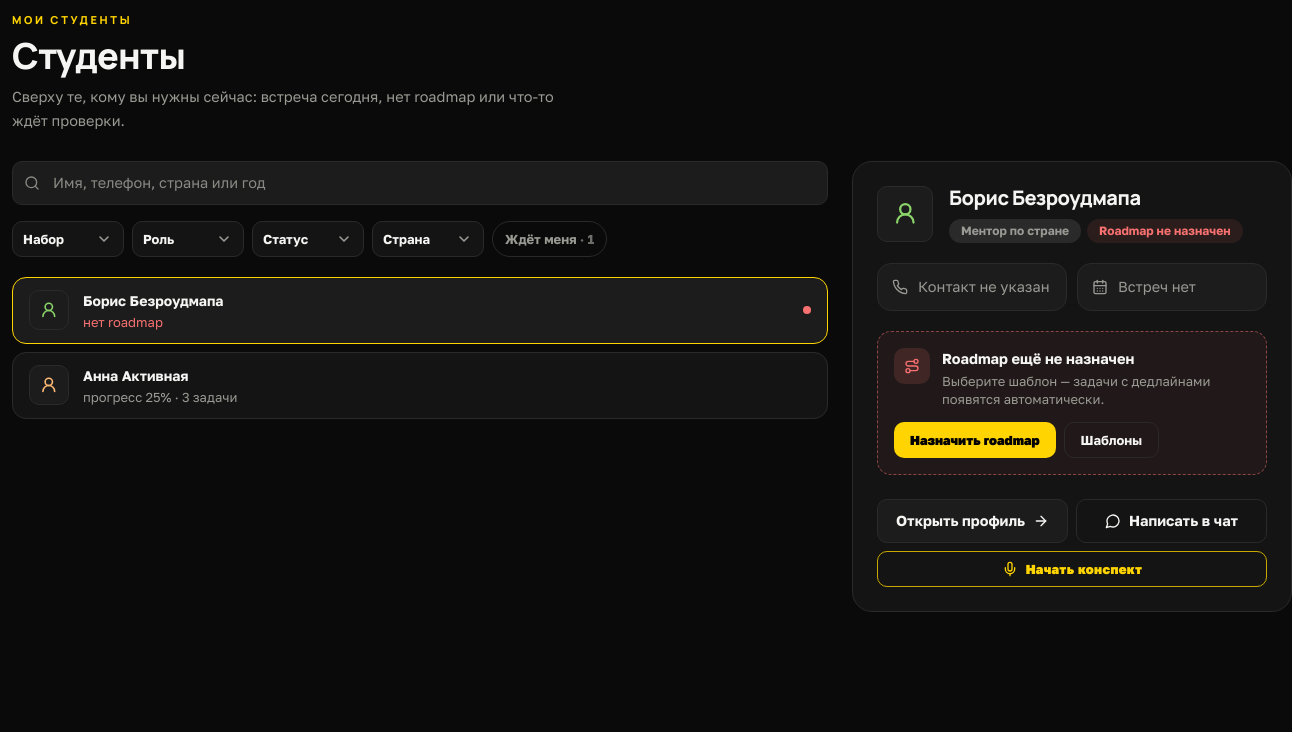
Scenario: фильтры строкой сверху: «Ждёт меня», моя роль, статус
Select "Ментор по стране · 1" in the dropdown named "Моя роль": (188, 238) [132,220,244,256]
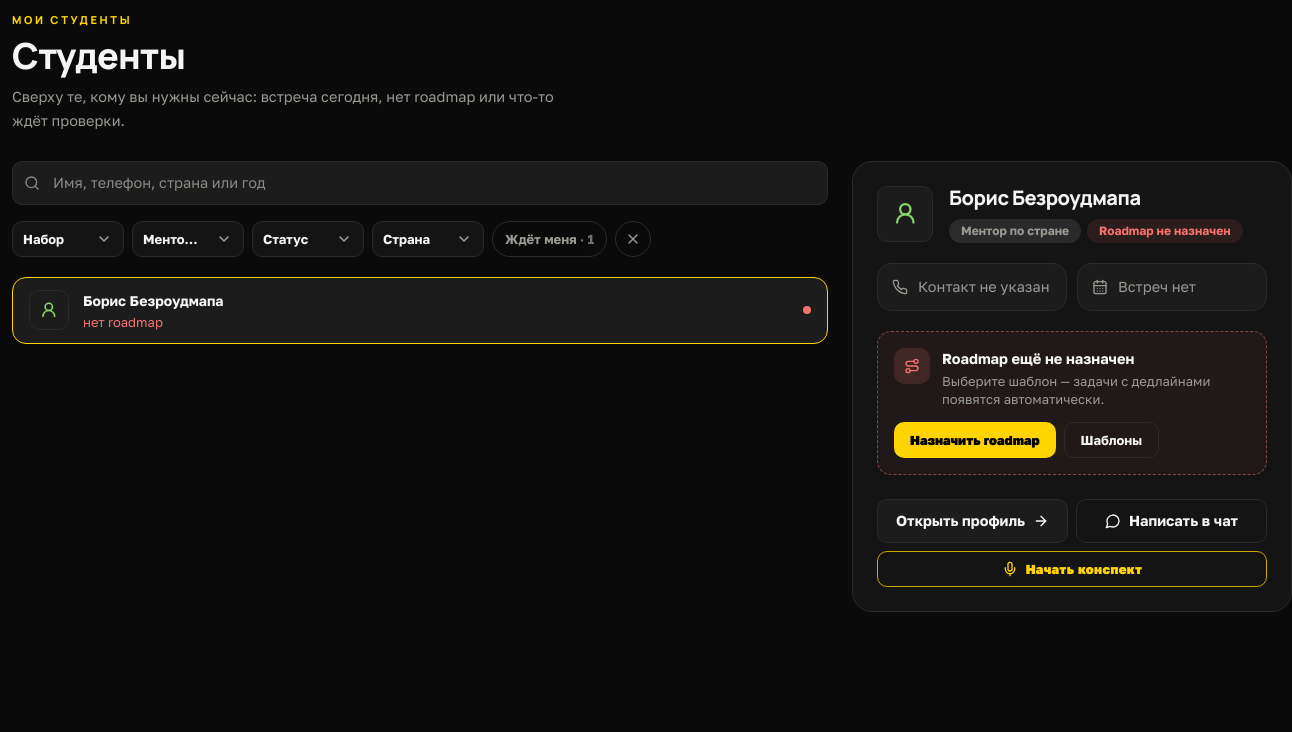
expect no buttons "Анна Активная" are shown: met
Click the button named "Сбросить": (633, 238) [615,220,651,256]
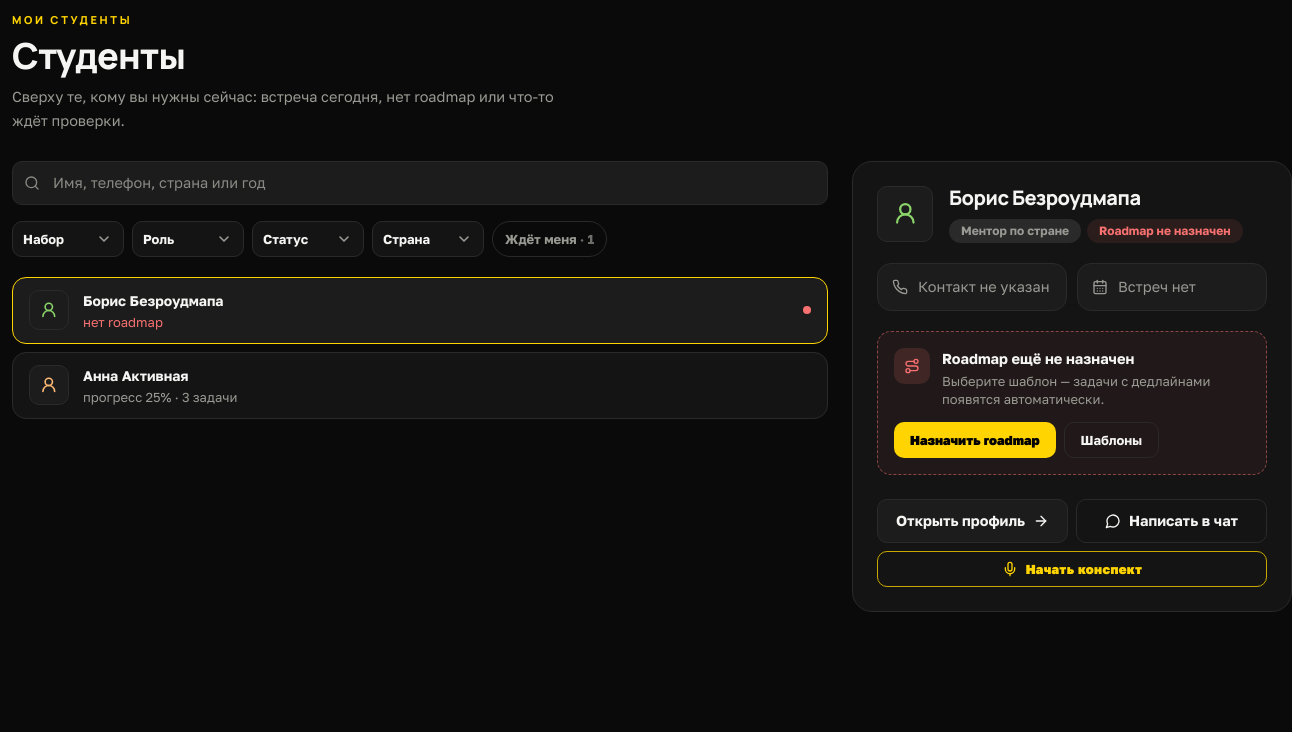
Select "Активная работа · 1" in the dropdown named "Статус": (308, 238) [252,220,364,256]
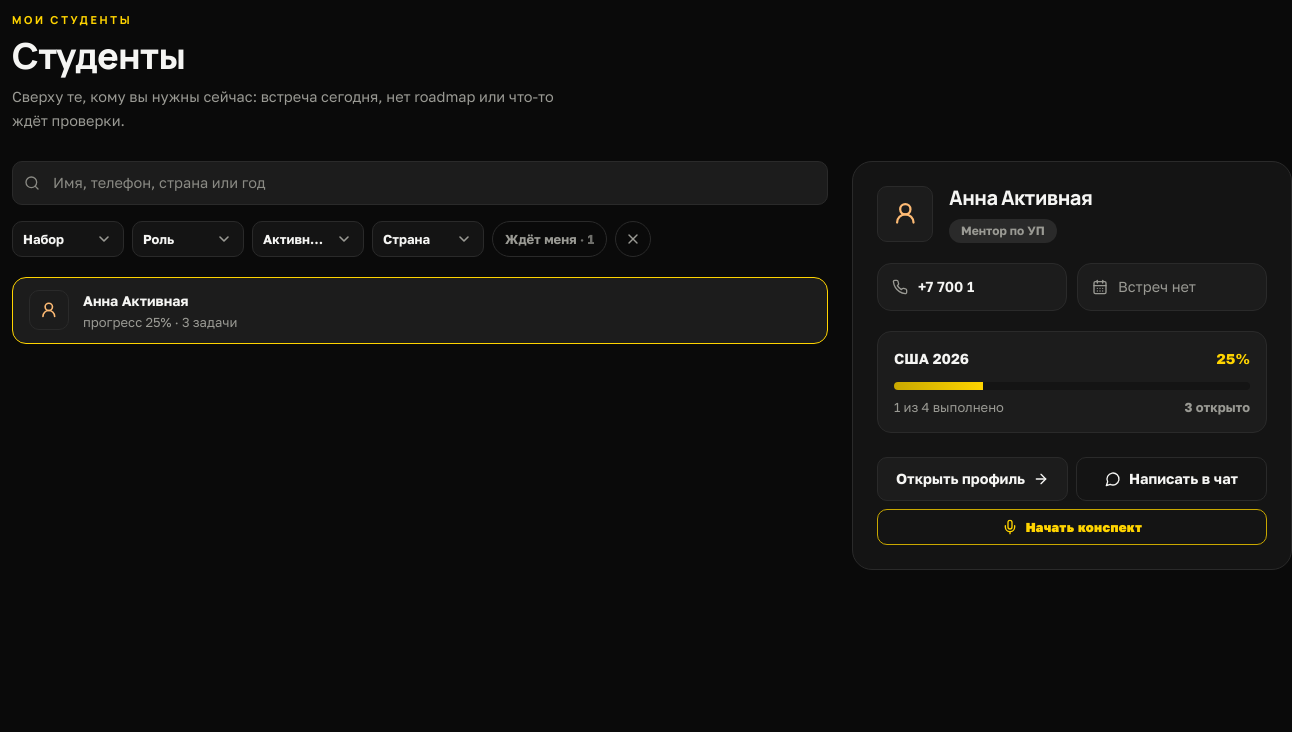
expect no buttons "Борис Безроудмапа" are shown: met
